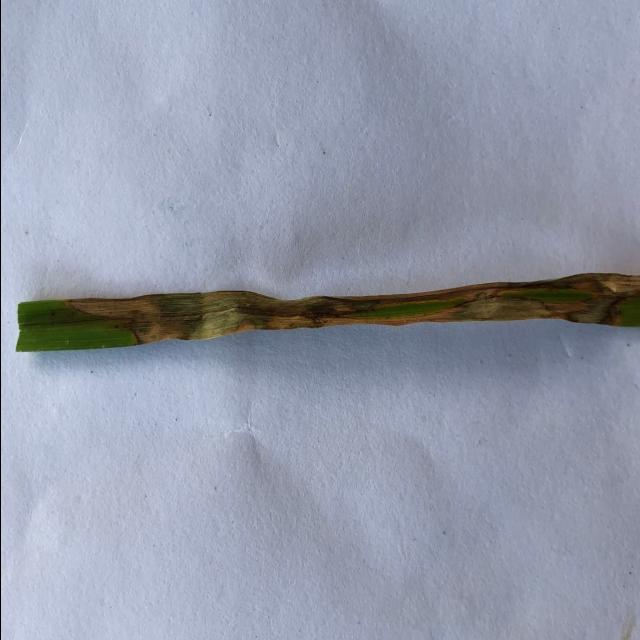Leaf Blight: (63, 273, 640, 344)
